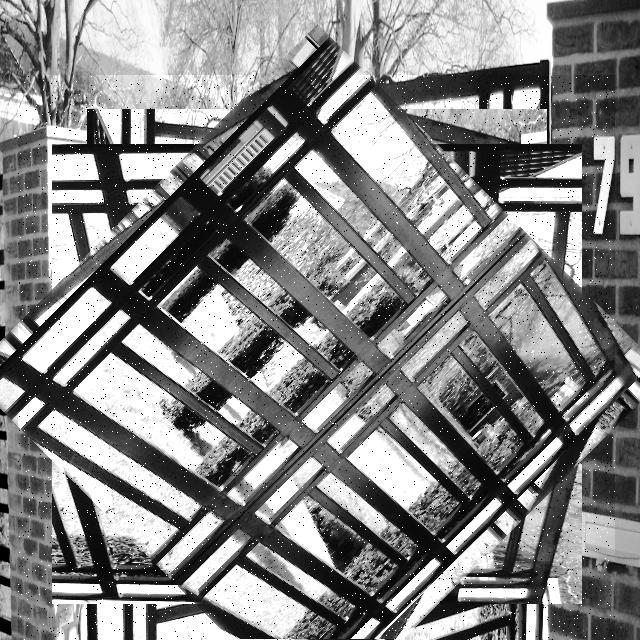fences: (18, 75, 615, 640)
